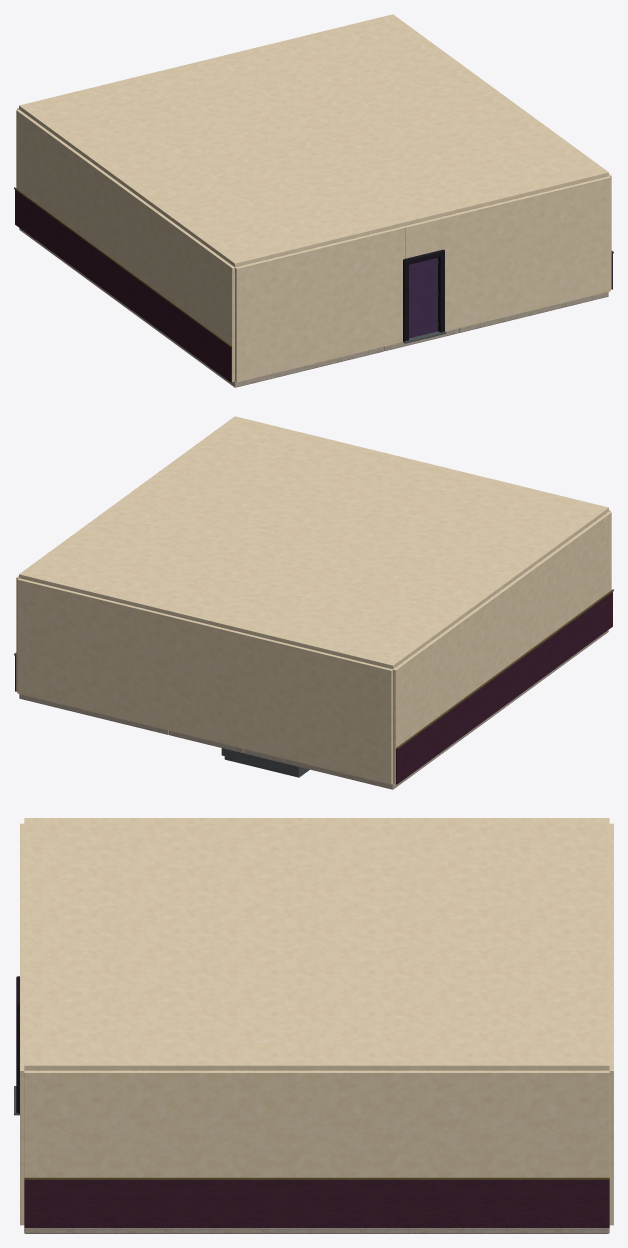
File: explore3d__inspection_hall_normal.glb
The picture shows the model from 3 angles, top to bottom: view 1: azimuth 30°, elevation 25°; view 2: azimuth 150°, elevation 25°; view 3: azimuth 270°, elevation 25°; orthographic projection. The views are drawn at different scales.
Parts seen in each view (by area): view 1: ceiling.035, wall.093, wall.092, wall.095, lower_panel.094, front.030_leaf, floor_west, door_lintel.023, floor_east, panel_rail.094, front.030_jamb; view 2: ceiling.035, wall.094, wall.095, lower_panel.094, floor_west, floor_east, panel_rail.094, tank_wall.003; view 3: ceiling.035, wall.096, lower_panel.095, floor_east, panel_rail.095, wall.094, wall.092, wall.093.
Boxes of the visible parts, bbox=[...] form: ceiling.035: bbox=[19, 14, 608, 267]; wall.093: bbox=[235, 226, 404, 382]; wall.092: bbox=[440, 176, 610, 331]; wall.095: bbox=[16, 109, 234, 382]; lower_panel.094: bbox=[15, 190, 231, 382]; front.030_leaf: bbox=[409, 257, 437, 338]; floor_west: bbox=[19, 228, 384, 387]; door_lintel.023: bbox=[404, 217, 441, 258]; floor_east: bbox=[459, 292, 608, 332]; panel_rail.094: bbox=[14, 187, 230, 346]; front.030_jamb: bbox=[438, 255, 444, 332]; ceiling.035: bbox=[19, 416, 608, 669]; wall.094: bbox=[17, 578, 392, 784]; wall.095: bbox=[393, 511, 611, 784]; lower_panel.094: bbox=[396, 592, 612, 784]; floor_west: bbox=[243, 630, 608, 789]; floor_east: bbox=[19, 694, 168, 734]; panel_rail.094: bbox=[397, 589, 613, 748]; tank_wall.003: bbox=[221, 748, 299, 774]; ceiling.035: bbox=[24, 818, 609, 1070]; wall.096: bbox=[24, 1070, 609, 1177]; lower_panel.095: bbox=[24, 1180, 609, 1227]; floor_east: bbox=[24, 1228, 609, 1233]; panel_rail.095: bbox=[24, 1177, 609, 1180]; wall.094: bbox=[609, 823, 613, 1225]; wall.092: bbox=[20, 959, 24, 1225]; wall.093: bbox=[20, 823, 24, 934].
Bounding box in the file's own units: 12.32 × 5.82 × 12.3.
11 materials, 9 textured.
